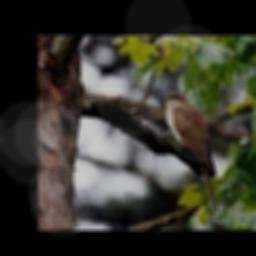Cuckoo: (160, 91, 219, 214)
